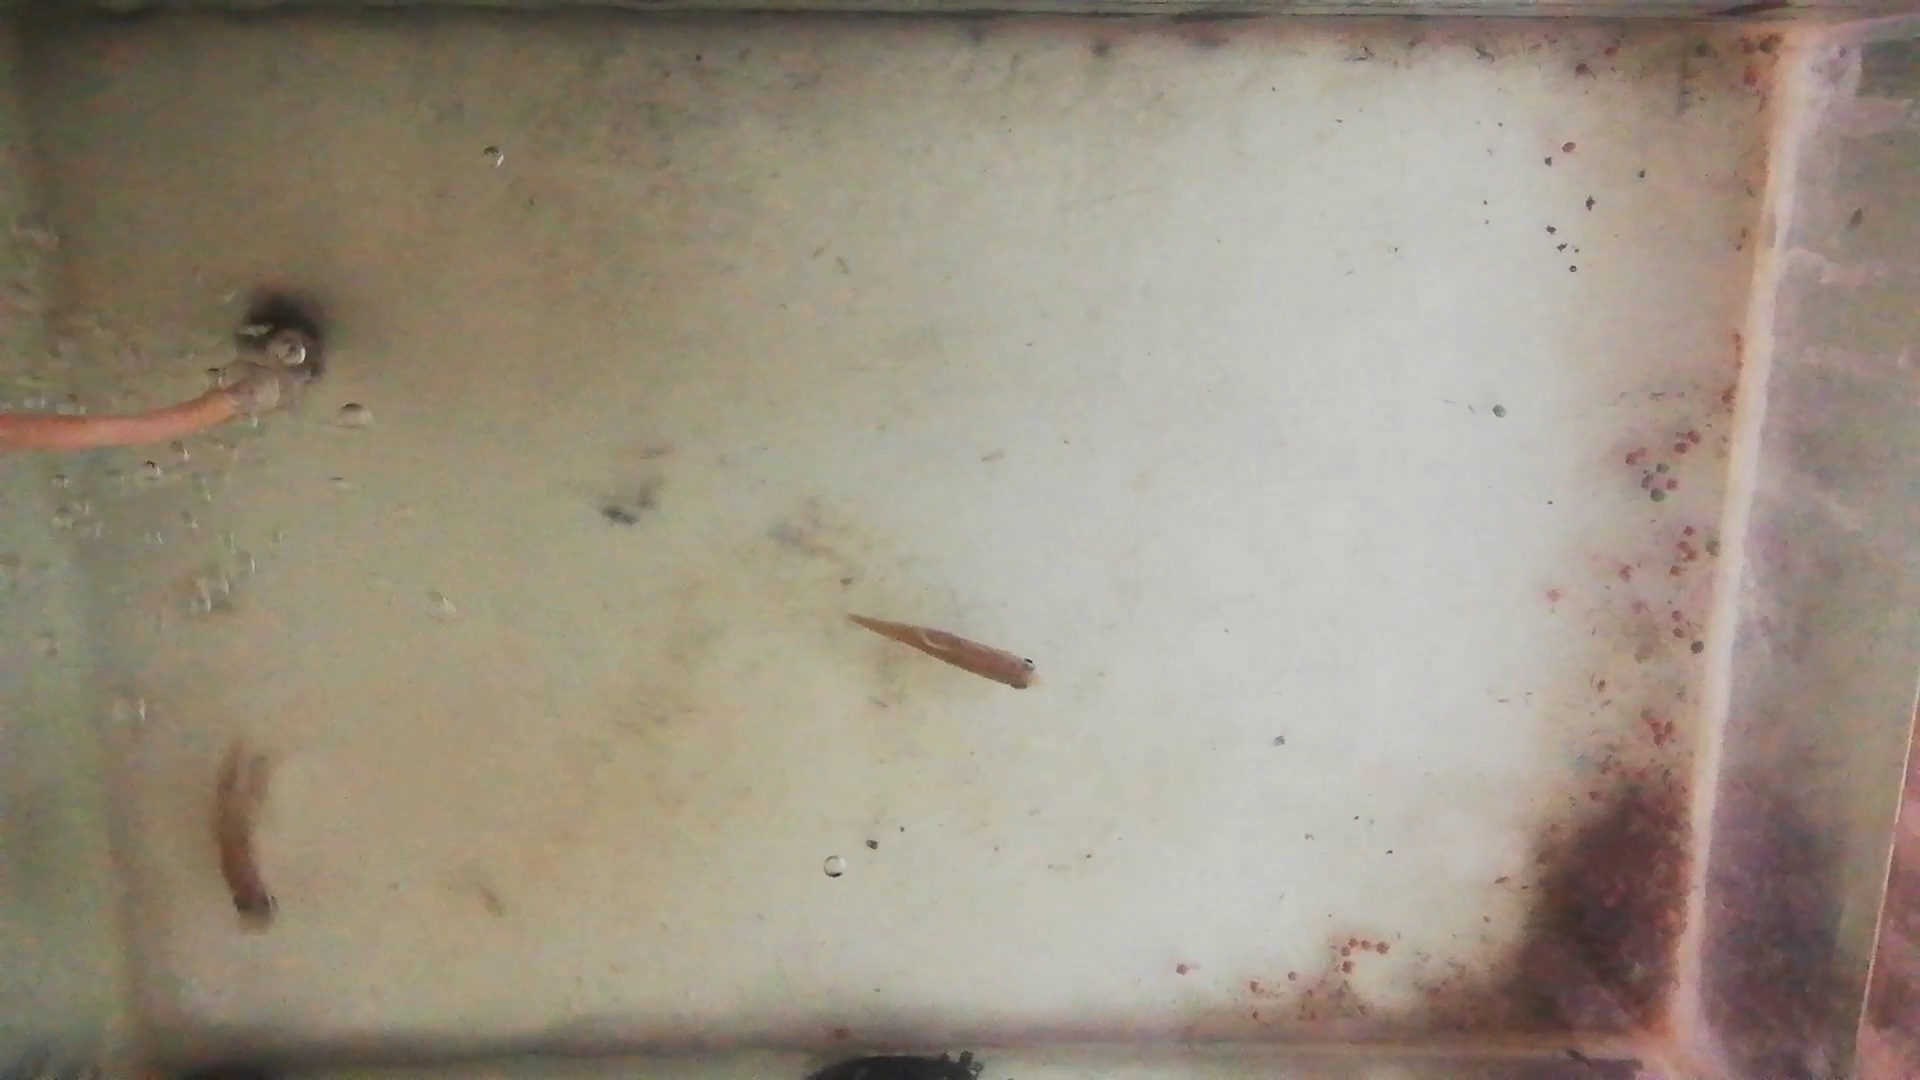fish: (844, 611, 1043, 694), (215, 744, 284, 928)
